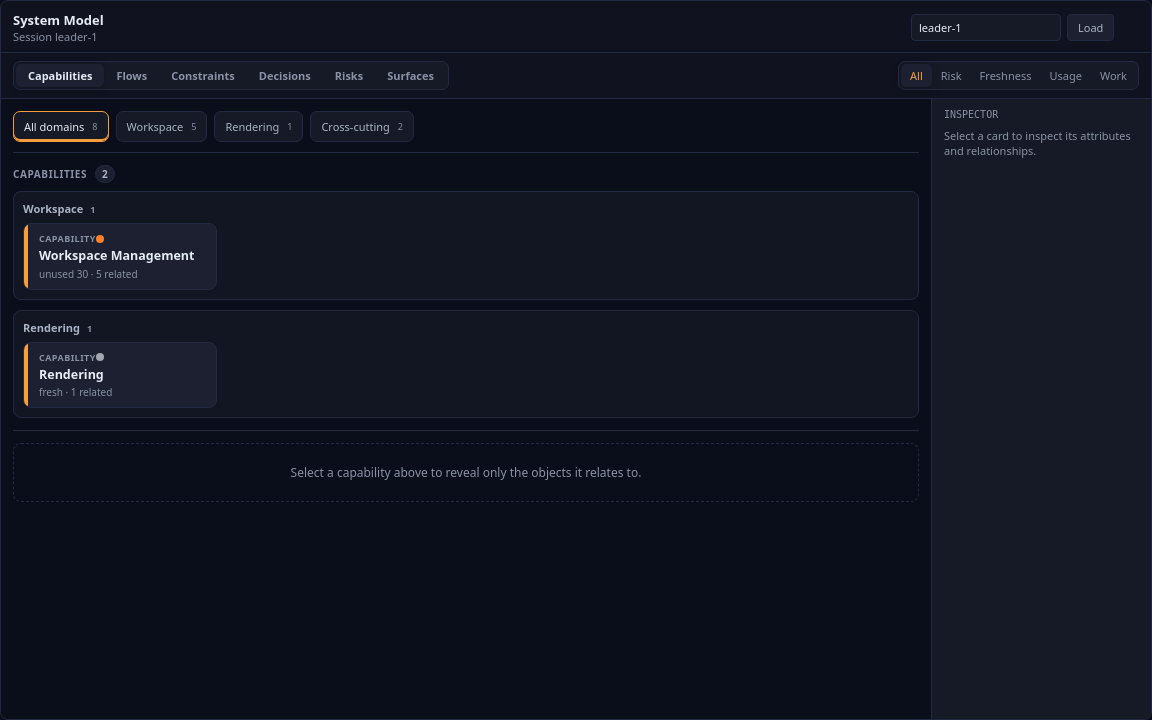
SystemGraphNodeRenderer › groups browse cards by domain and filters to a selected domain
expect the button with aria-label "Inspect Workspace Management" is shown: met, box [23,223,217,290]
expect the navigation bar "domains" is shown: met, box [13,111,919,153]
What coordinates should you click on to do the following:
click the button with aria-label "Browse Workspace"
I would click on:
 (161, 126)
Its box is [116,111,207,142].
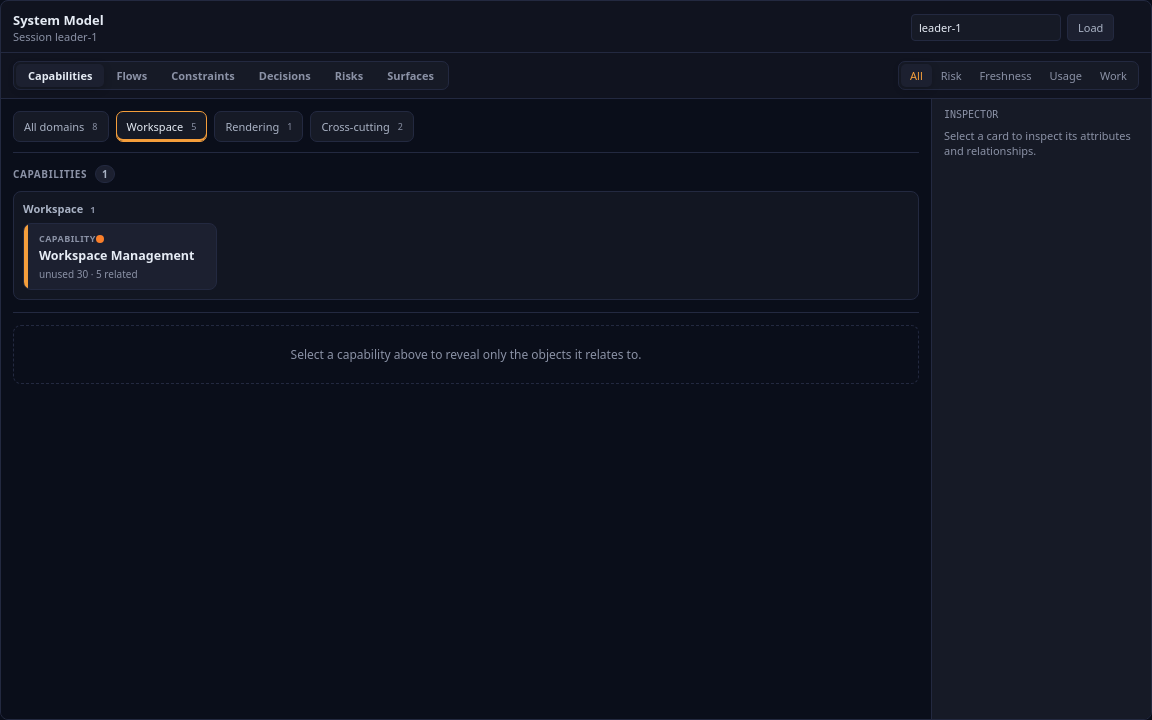
expect the button with aria-label "Inspect Workspace Management" is shown: met, box [23,223,217,290]
expect the button "Inspect Rendering" is gone: met
